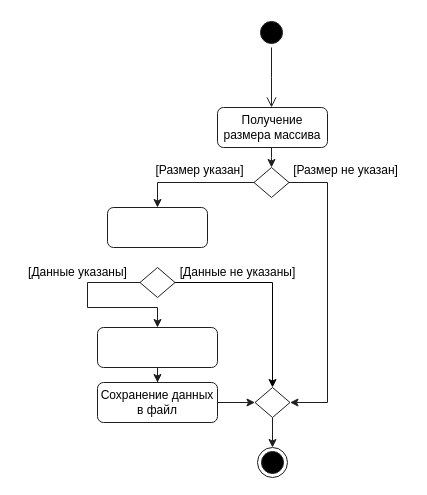
The diagram is 427 pixels wide and 495 high, and some of its shapes have lost their labels. The centre of each missing label's shape, as x and y in pixels:
Заполнение массива данных: (x=157, y=227)
Сортировка данных по возрастанию: (x=157, y=347)
